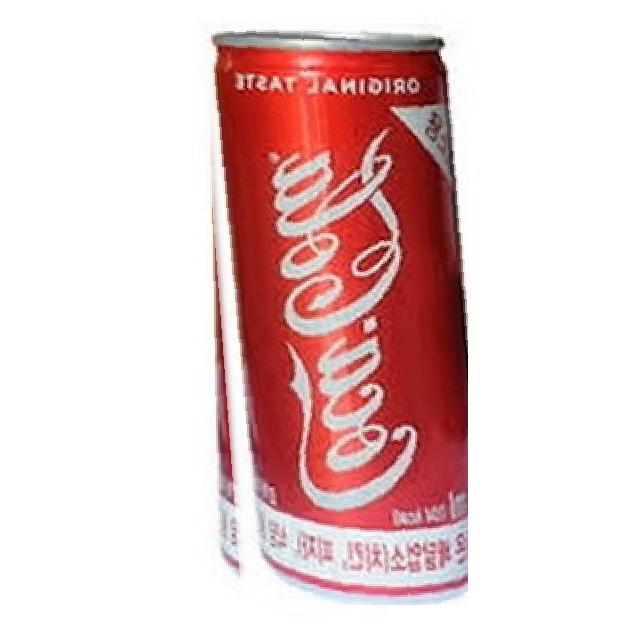recyclable: (198, 11, 468, 605)
